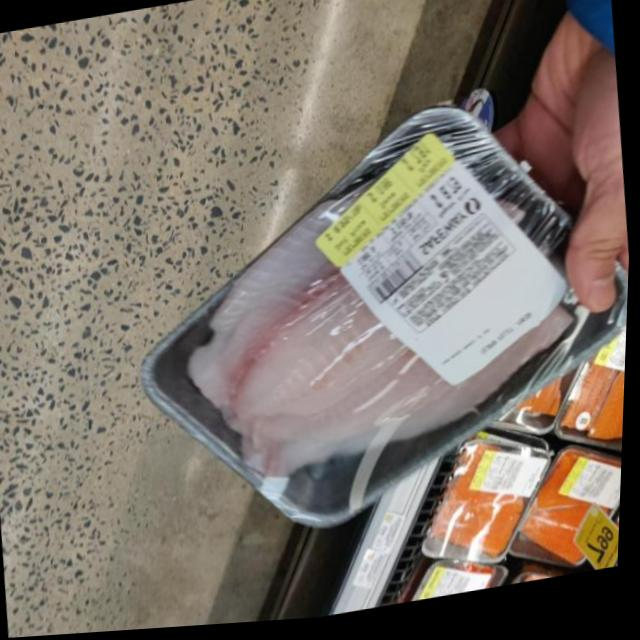Meat: (124, 85, 637, 546), (417, 441, 556, 575), (502, 445, 626, 583), (551, 327, 629, 471)
